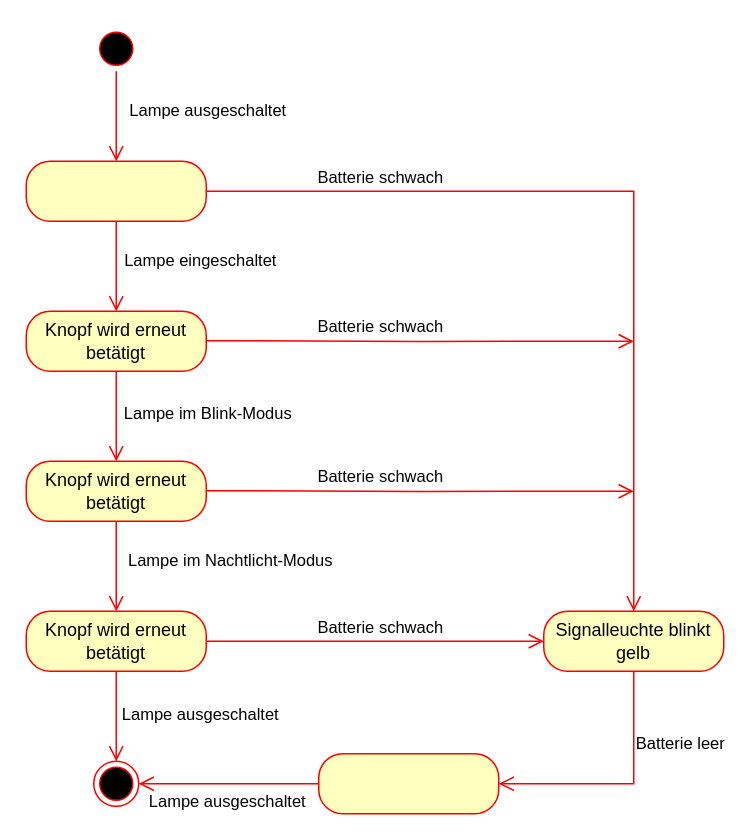
Image size: 750x840. Some labels were removed from this diagram. Each missing label, with the centre of its shape:
"Knopf wird betätigt" belongs at [115,190].
"Signalleuchte blinkt 3x rot" belongs at [408,783].
